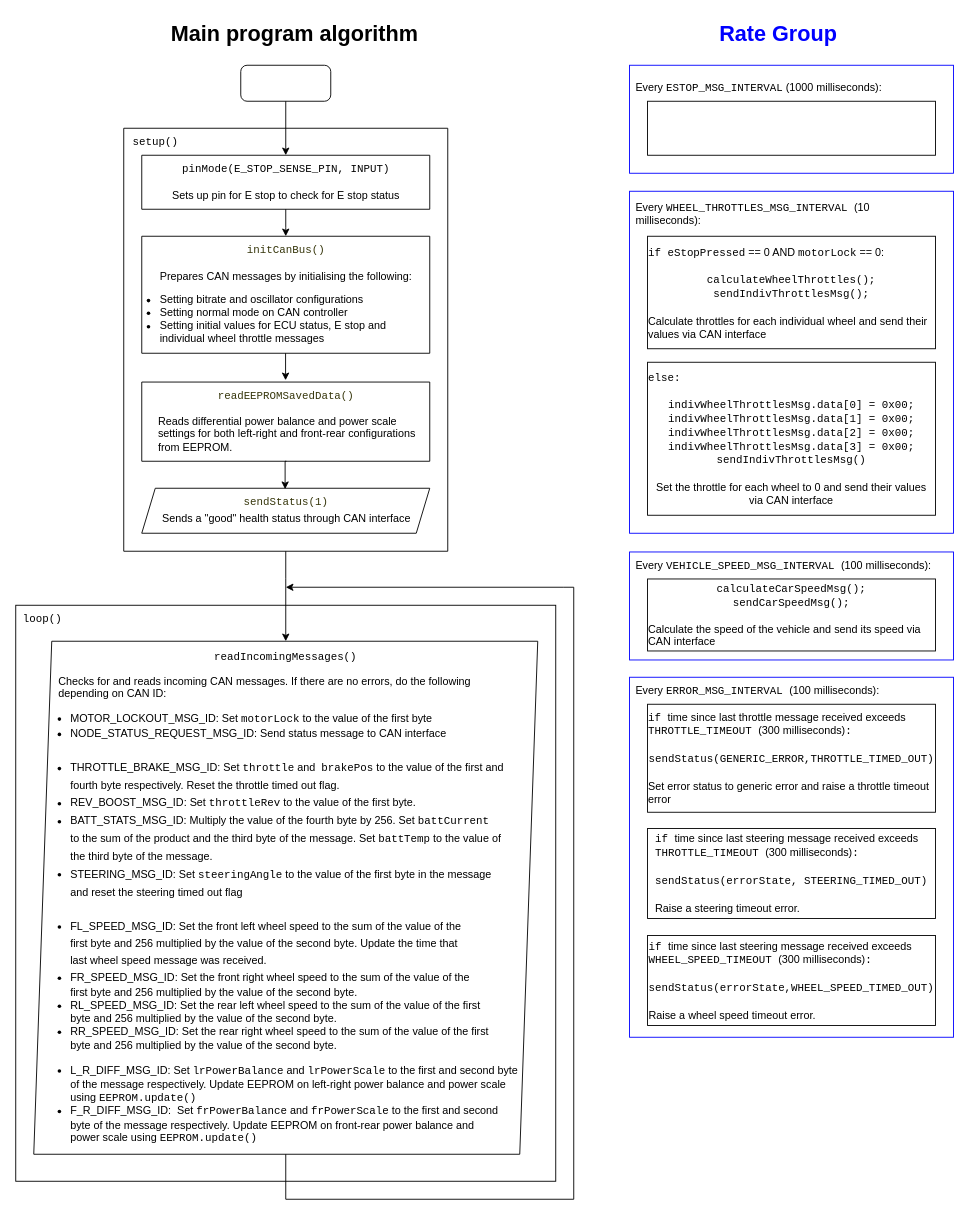
The diagram is 969 pixels wide and 1222 high, and some of its shapes have lost their labels. Here are the shapes that lost their labels. From the top down, the box of each, then its label:
(240, 64, 331, 101): Start/Reset
(647, 100, 936, 155): sendEStopMsg() Send status of E stop through CAN interface
